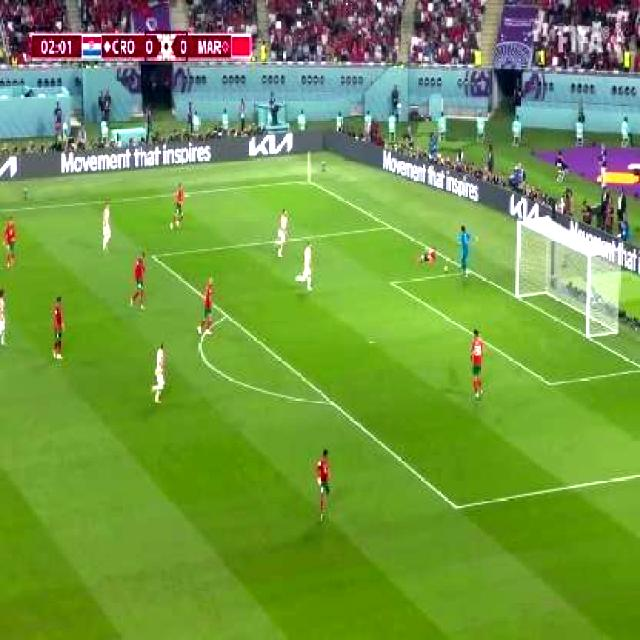bigarea_bottom_inner: (448, 496, 464, 518)
bigarea_top_inner: (146, 249, 157, 263)
bigarea_top_outter: (384, 222, 394, 230)
bottom_arc_area_intersection: (326, 396, 337, 410)
corner: (303, 177, 312, 185)
smallarea_bottom_inner: (543, 372, 557, 394)
smallarea_top_inner: (386, 277, 397, 289)
smallarea_top_outter: (466, 266, 472, 277)
top_arc_area_intersection: (220, 308, 231, 322)
